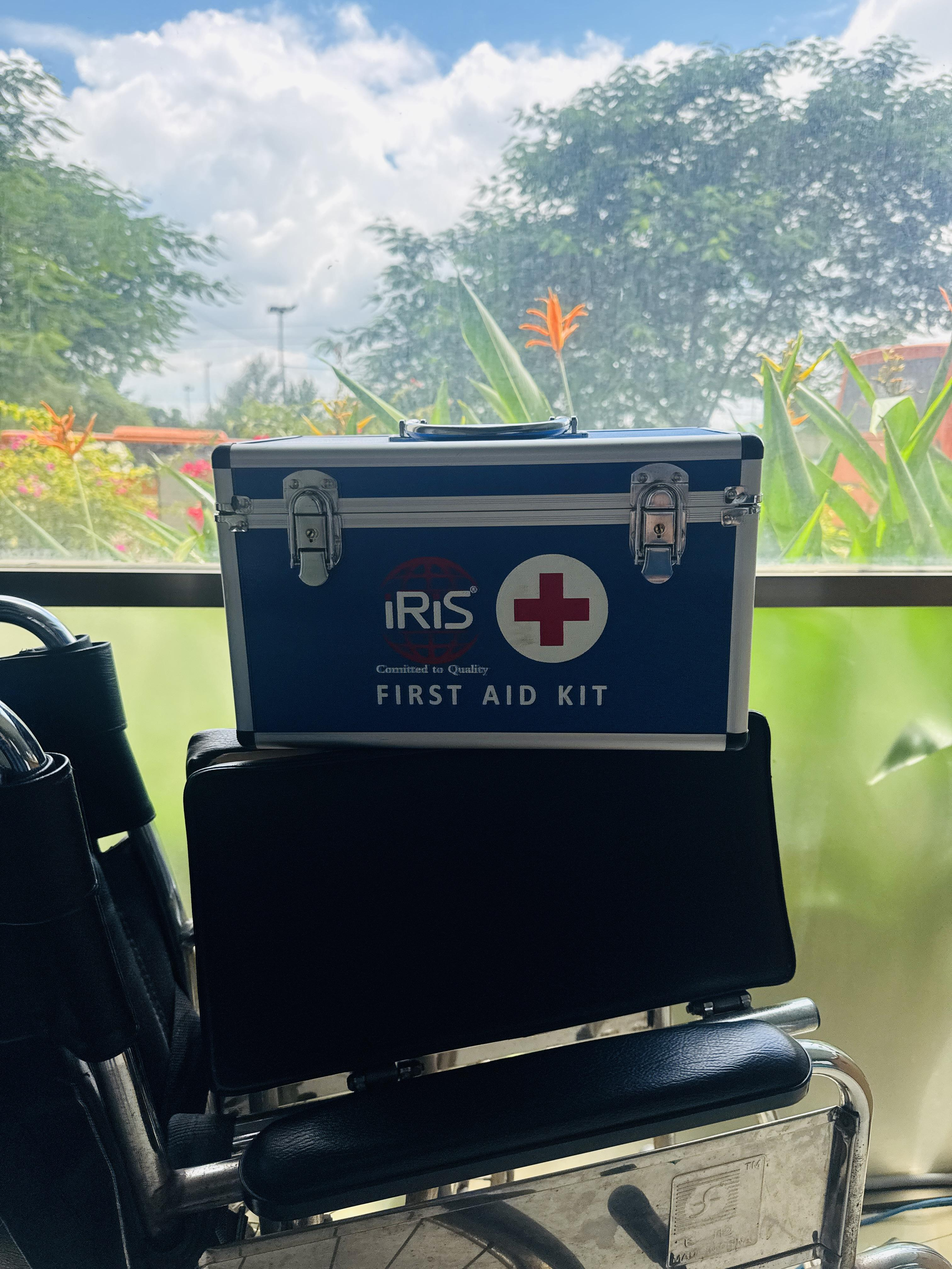FirstAidBox: (178, 385, 798, 793)
